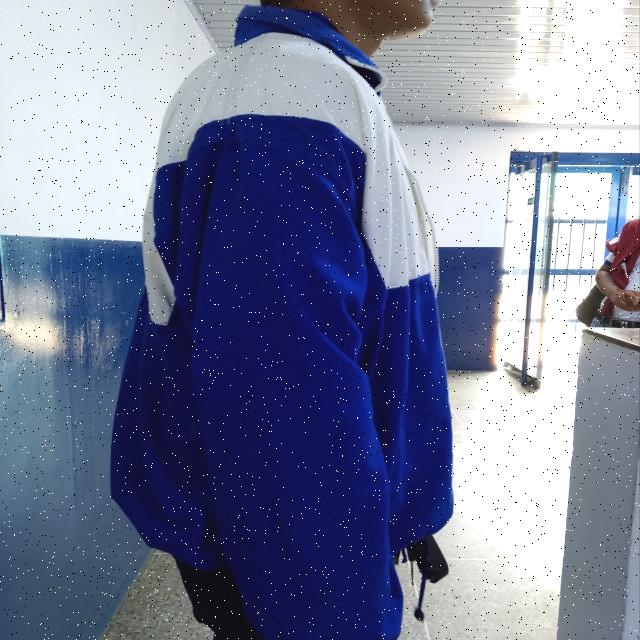chaqueta_unefa: (106, 2, 454, 640)
